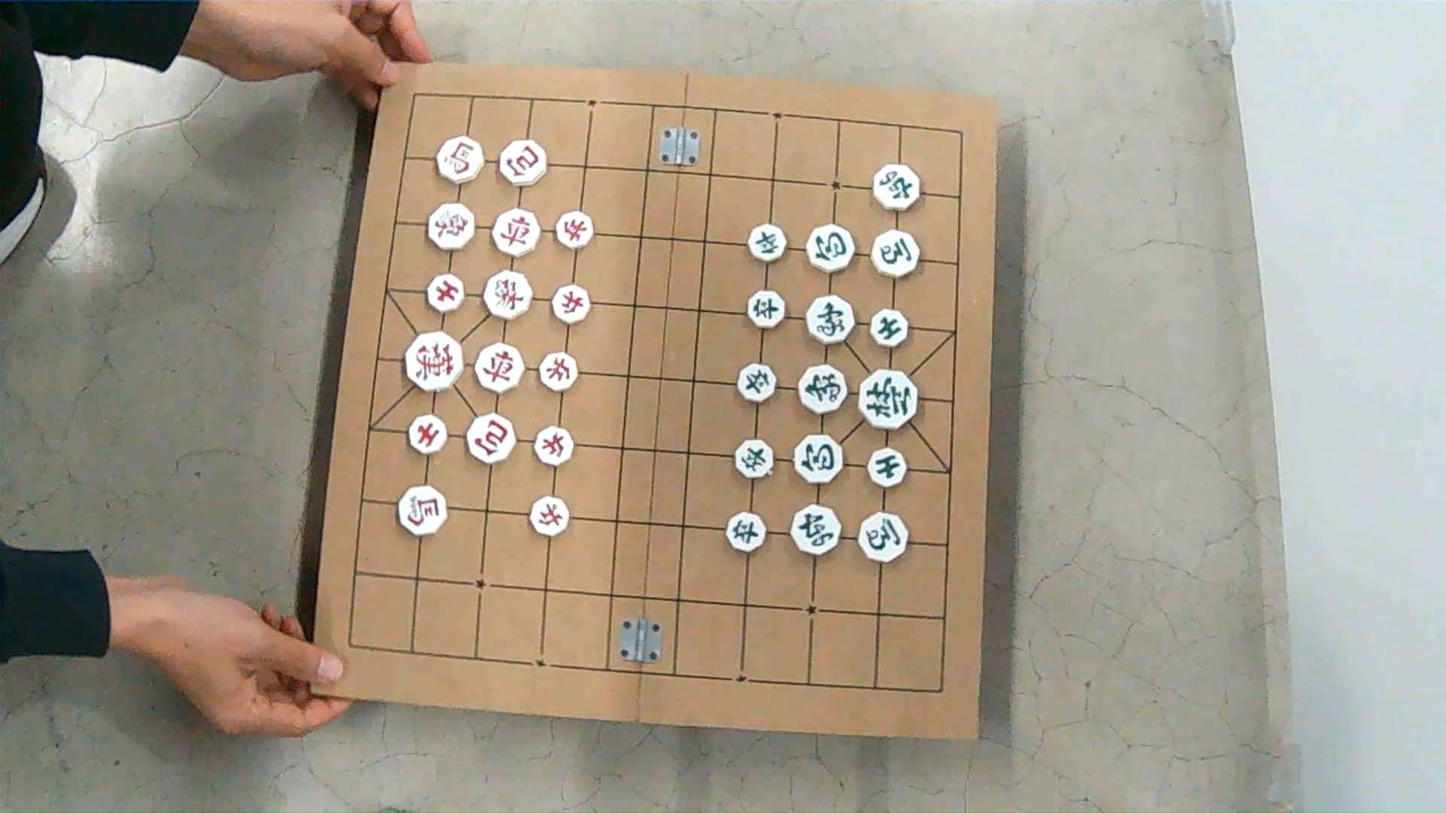cha_green: (791, 505, 840, 555), (873, 164, 919, 211)
cha_red: (475, 343, 523, 392), (493, 209, 539, 257)
jol_green: (725, 512, 764, 553), (735, 440, 773, 479), (737, 364, 775, 402), (749, 224, 786, 263), (748, 291, 785, 329)
jol_red: (530, 496, 569, 536), (538, 352, 576, 391), (555, 211, 593, 249), (535, 426, 572, 465), (552, 285, 589, 324)
ma_green: (859, 513, 908, 562), (871, 230, 918, 278)
ma_red: (398, 486, 446, 535), (436, 136, 483, 184)
po_green: (795, 434, 843, 483), (807, 224, 854, 273)
po_red: (466, 413, 515, 464), (499, 140, 547, 185)
sa_green: (868, 449, 905, 487), (871, 309, 908, 347)
sa_red: (408, 415, 447, 455), (426, 273, 464, 312)
sang_green: (798, 365, 847, 414), (807, 296, 854, 344)
sang_red: (484, 271, 531, 319), (428, 203, 474, 250)
wang_green: (859, 369, 917, 429)
wang_red: (405, 331, 463, 391)
